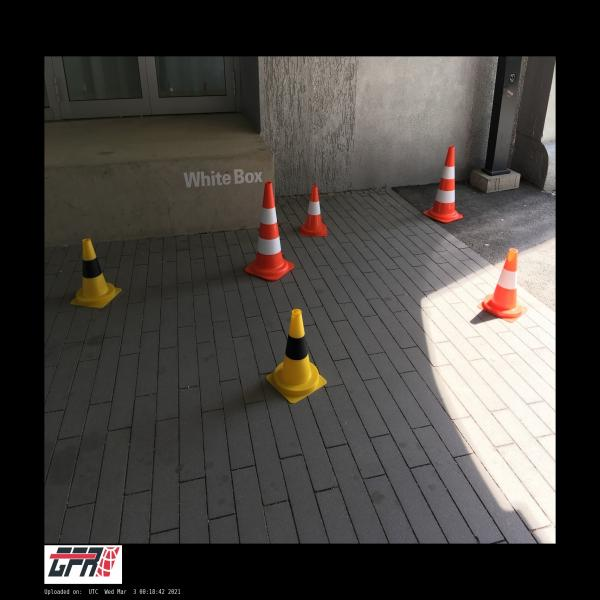large_orange_cone: (244, 181, 294, 281), (423, 146, 463, 222)
orange_cone: (478, 248, 527, 322), (300, 186, 327, 236)
yellow_cone: (266, 308, 326, 404), (68, 238, 121, 308)
